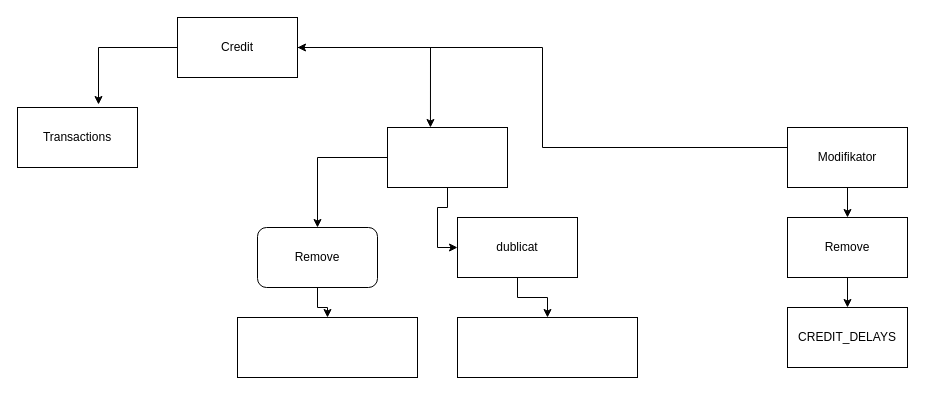
Some shapes in this 925 by 395 pixel diagram are drawn without their labels. Here are the shapes that lost their labels. From the top down, the centre of each, then its label:
the point at 447,157: Schedule
the point at 327,347: schedule_pre_initial_payment schedule_mixed_payment
the point at 547,347: schedule_cup_payment schedule_actual_payment
